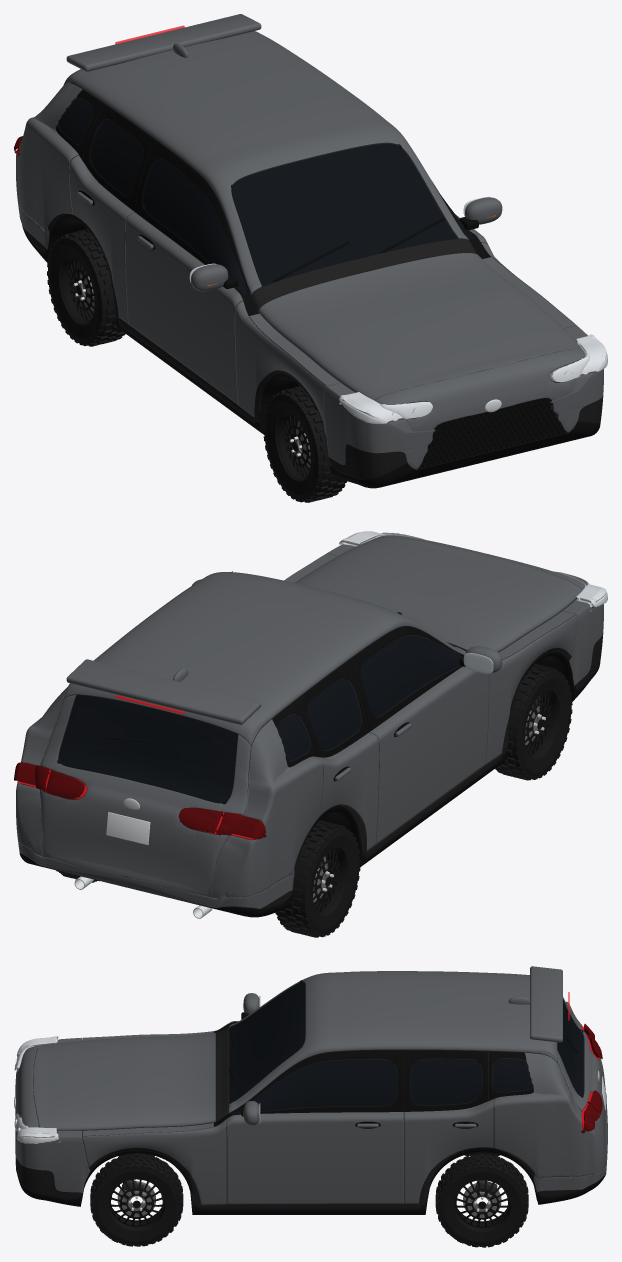
File: RAV4_2023_LE.glb
3 renders of one model, top to bottom at view 1: azimuth 30°, elevation 25°; view 2: azimuth 150°, elevation 25°; view 3: azimuth 270°, elevation 25°, orthographic. The views are drawn at different scales.
Parts seen in each view (by area): view 1: Roof, Hood, Windshield, Bumper_Front, Door_FR, Quarter_R, Door_RR, Underbody, Door_FR_Glass, Grille_Mesh, Fender_R, Roof_Spoiler (+20 smaller); view 2: Roof, Hood, Liftgate, Door_FR, Liftgate_Glass, Quarter_R, Door_RR, Roof_Spoiler, Door_FR_Glass, Fender_R, Bumper_Rear, Underbody (+21 smaller); view 3: Roof, Door_FL, Hood, Quarter_L, Door_RL, Door_FL_Glass, Windshield, Bumper_Front, Fender_L, Wheel_RL_Tire, Wheel_FL_Tire, Chassis_Tub (+23 smaller).
Boxes of the visible parts, <box> form: Roof: <box>63,31,468,294</box>; Hood: <box>259,253,581,400</box>; Windshield: <box>231,144,457,286</box>; Bumper_Front: <box>322,325,603,479</box>; Door_FR: <box>125,140,259,404</box>; Quarter_R: <box>16,83,104,231</box>; Door_RR: <box>69,104,156,323</box>; Underbody: <box>19,212,600,488</box>; Door_FR_Glass: <box>142,158,248,294</box>; Grille_Mesh: <box>418,398,565,469</box>; Fender_R: <box>235,301,326,420</box>; Roof_Spoiler: <box>66,14,261,71</box>; Roof: <box>63,572,465,745</box>; Hood: <box>295,537,582,651</box>; Liftgate: <box>40,695,250,897</box>; Door_FR: <box>348,626,488,844</box>; Liftgate_Glass: <box>57,695,238,804</box>; Quarter_R: <box>211,701,323,897</box>; Door_RR: <box>295,661,379,850</box>; Roof_Spoiler: <box>66,659,261,724</box>; Door_FR_Glass: <box>360,635,461,716</box>; Fender_R: <box>486,614,577,763</box>; Bumper_Rear: <box>18,841,294,908</box>; Underbody: <box>19,651,600,917</box>; Roof: <box>229,971,557,1112</box>; Door_FL: <box>214,1050,403,1204</box>; Hood: <box>33,1032,215,1130</box>; Quarter_L: <box>488,1051,606,1178</box>; Door_RL: <box>404,1050,493,1203</box>; Door_FL_Glass: <box>232,1059,397,1114</box>; Windshield: <box>229,980,305,1103</box>; Bumper_Front: <box>15,1037,90,1199</box>; Fender_L: <box>82,1119,226,1204</box>; Wheel_RL_Tire: <box>437,1155,526,1246</box>; Wheel_FL_Tire: <box>92,1154,181,1245</box>; Chassis_Tub: <box>20,1016,599,1209</box>.
Bounding box in the file's own units: 2.24 × 1.73 × 4.63.
